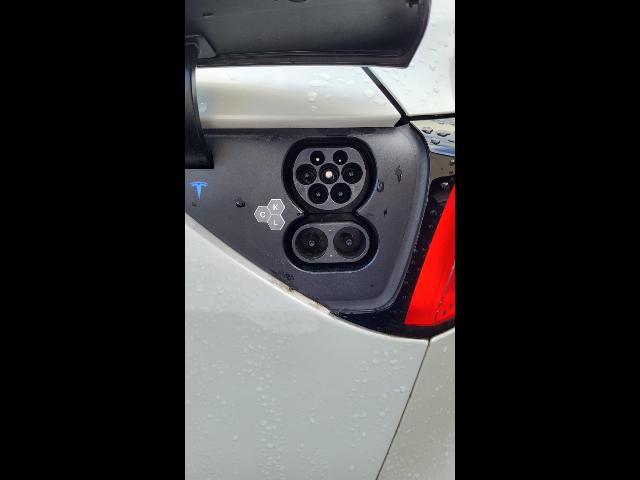inlet: (293, 147, 366, 210)
inlet-above-left: (310, 150, 325, 165)
inlet-above-right: (333, 150, 348, 165)
inlet-circle: (318, 163, 340, 184)
inlet-circle-left: (296, 163, 317, 185)
inlet-circle-right: (341, 162, 363, 184)
inlet-minus: (333, 226, 366, 260), (330, 183, 352, 204)
inlet-plus: (295, 227, 328, 260), (308, 183, 329, 204)
